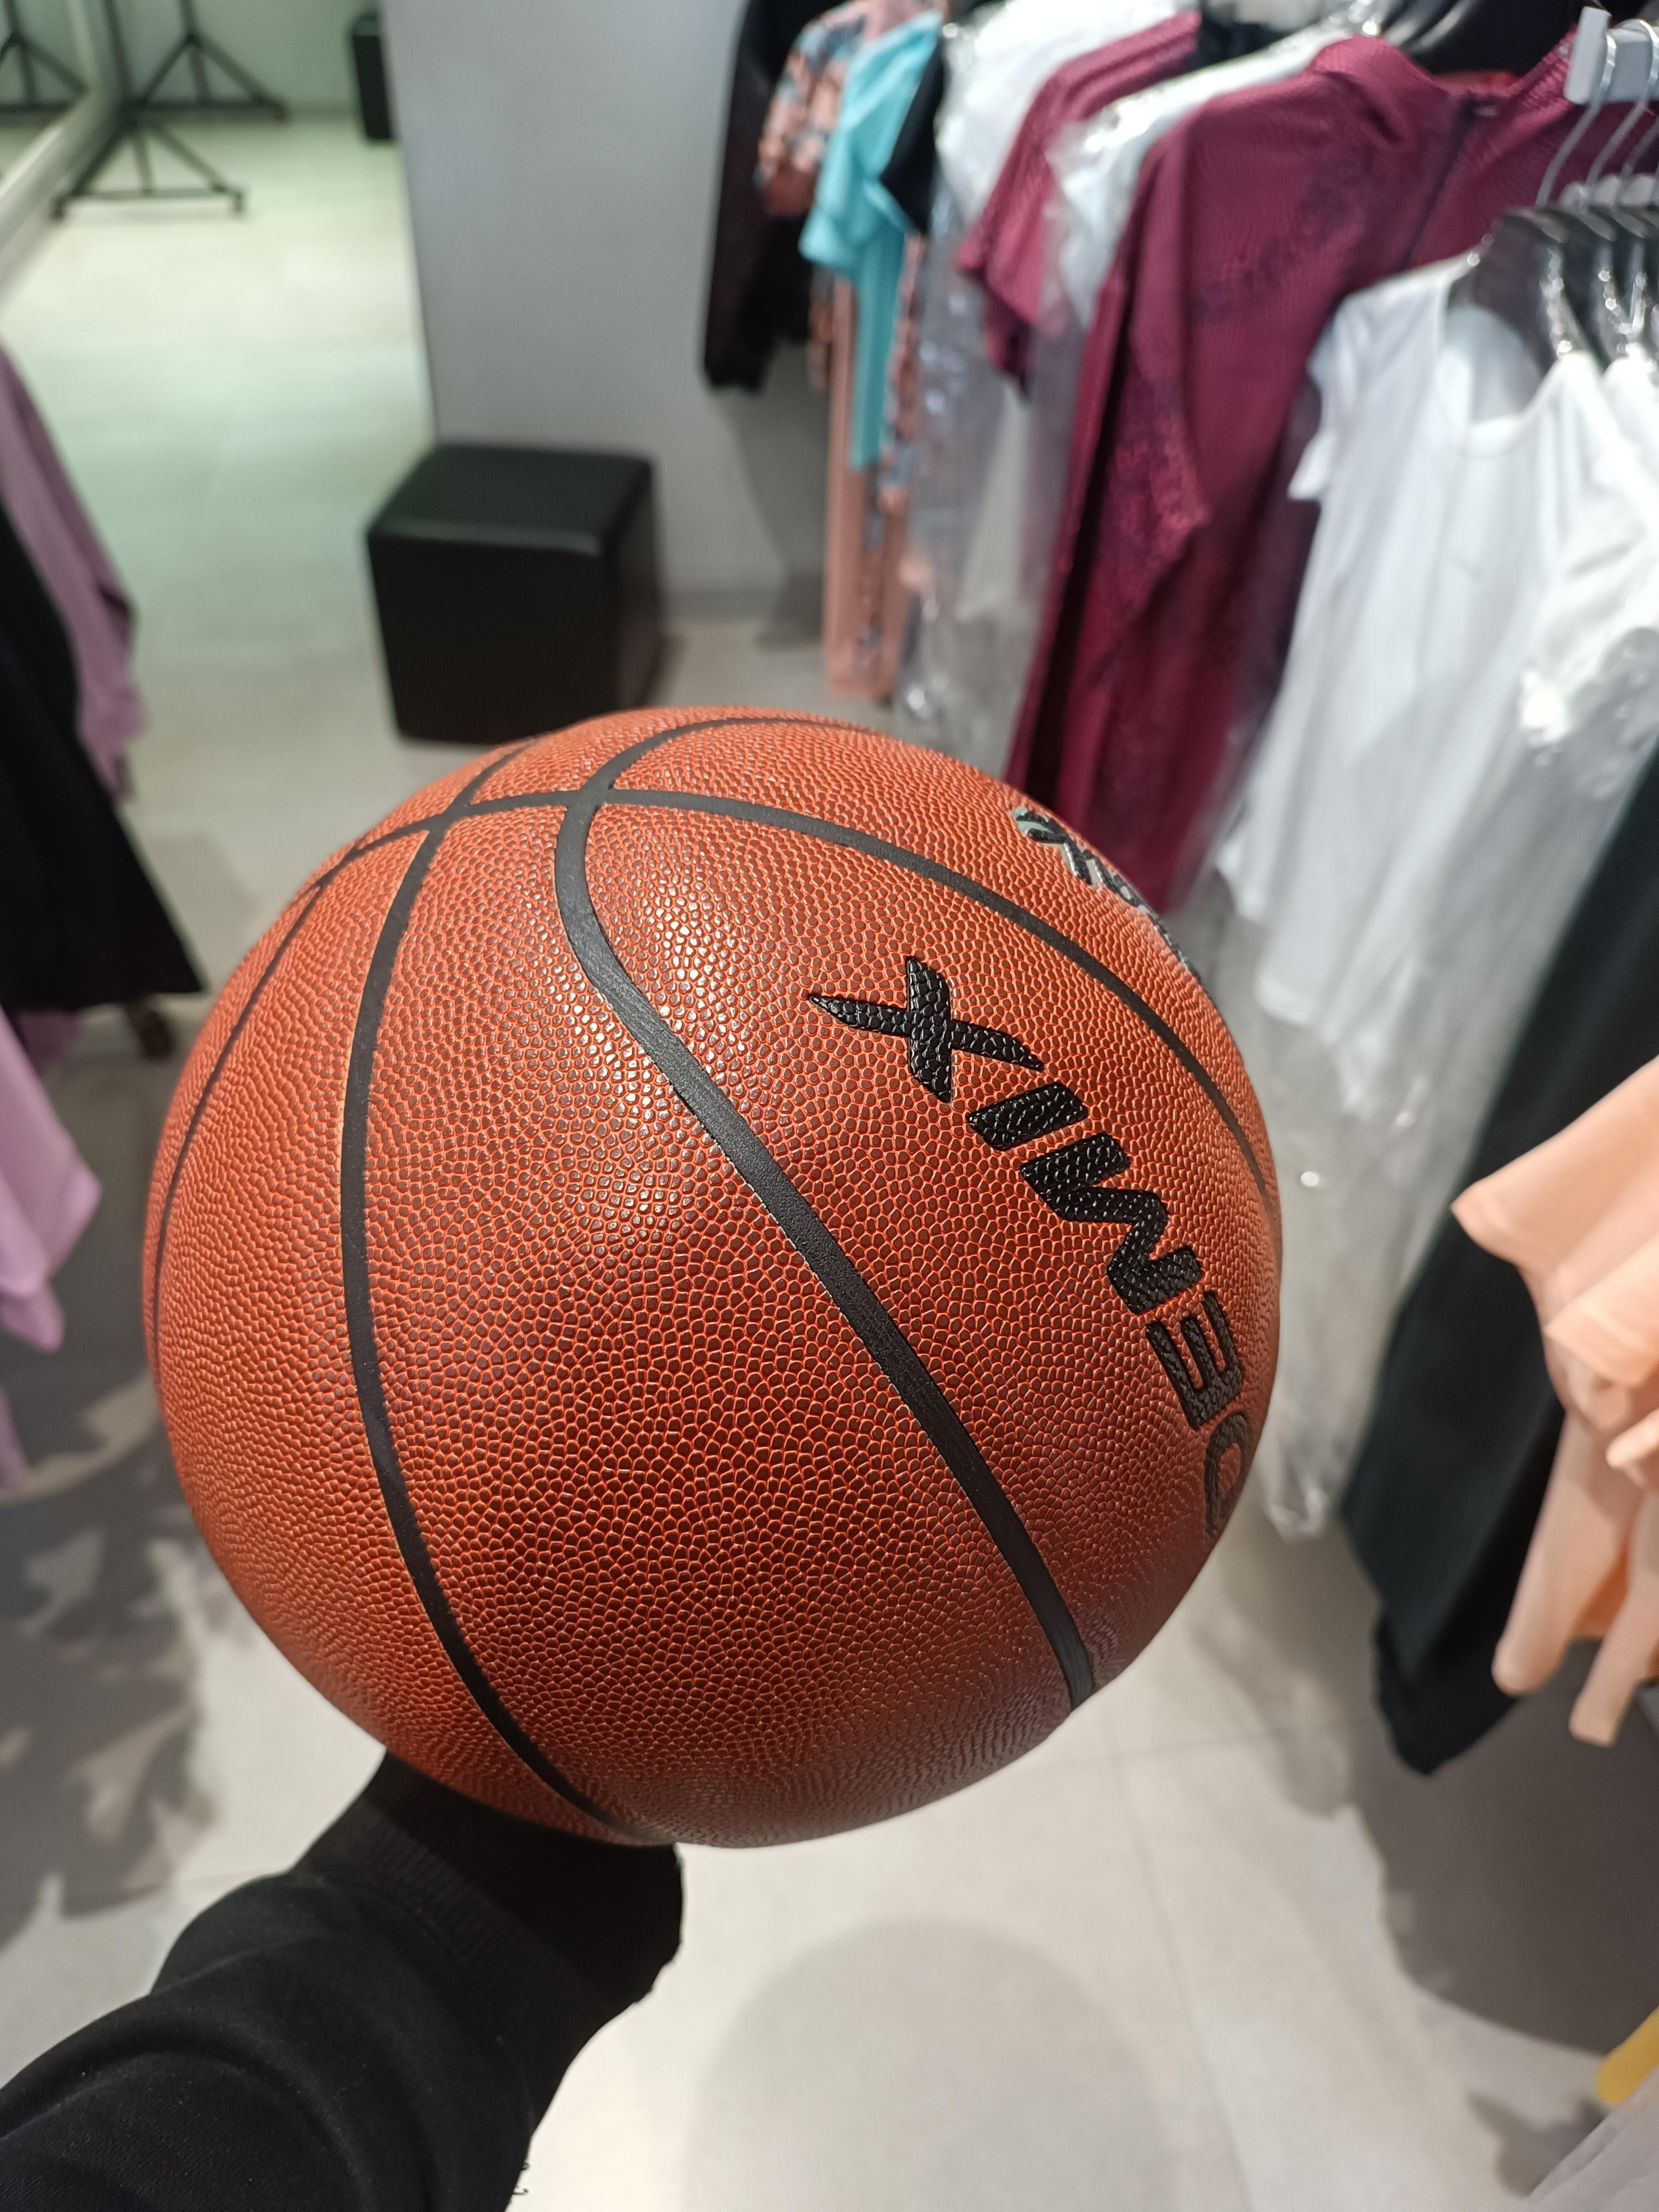Sports-Ball: (143, 709, 1279, 1844)
